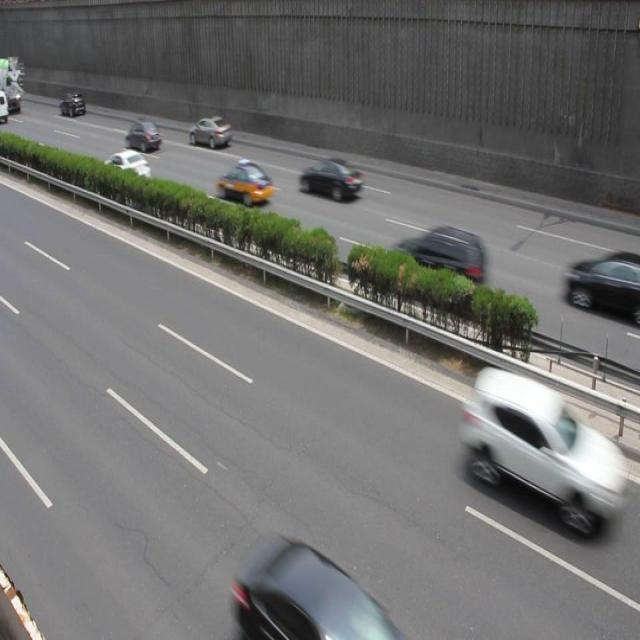car: (462, 367, 608, 535), (234, 532, 396, 640), (388, 225, 485, 311), (300, 155, 364, 203), (215, 157, 274, 209), (102, 147, 150, 186), (188, 115, 232, 150), (124, 117, 162, 152), (60, 92, 86, 118)
